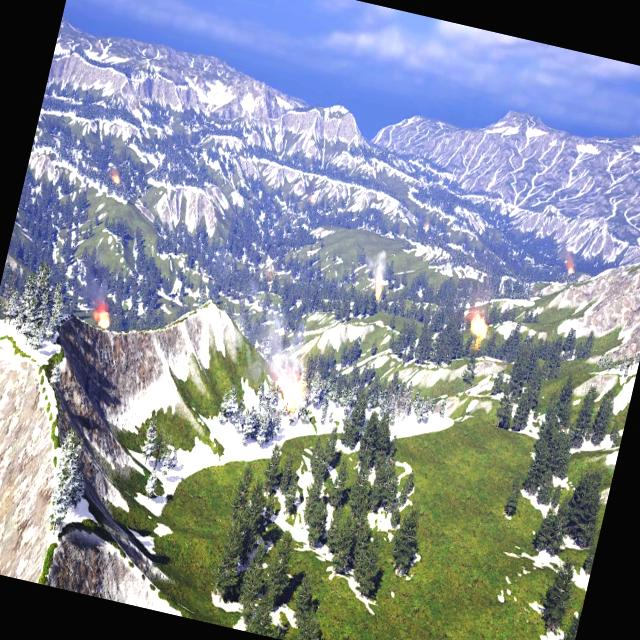fire: (282, 376, 308, 411), (468, 315, 488, 336), (94, 308, 112, 328), (566, 260, 578, 276), (372, 286, 382, 303), (308, 192, 318, 205), (112, 172, 122, 184), (422, 222, 429, 234)
smoke: (258, 324, 310, 390), (467, 288, 495, 322), (366, 247, 390, 286), (84, 284, 110, 314), (560, 240, 578, 268)
